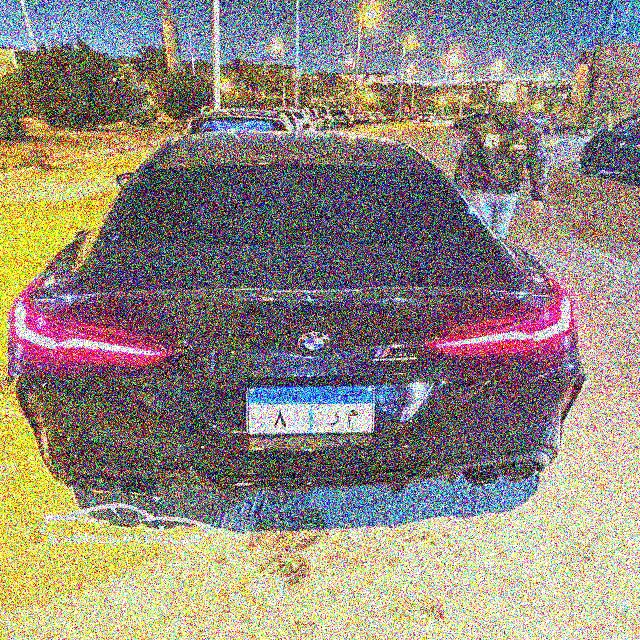License Plate: (244, 383, 376, 438)
